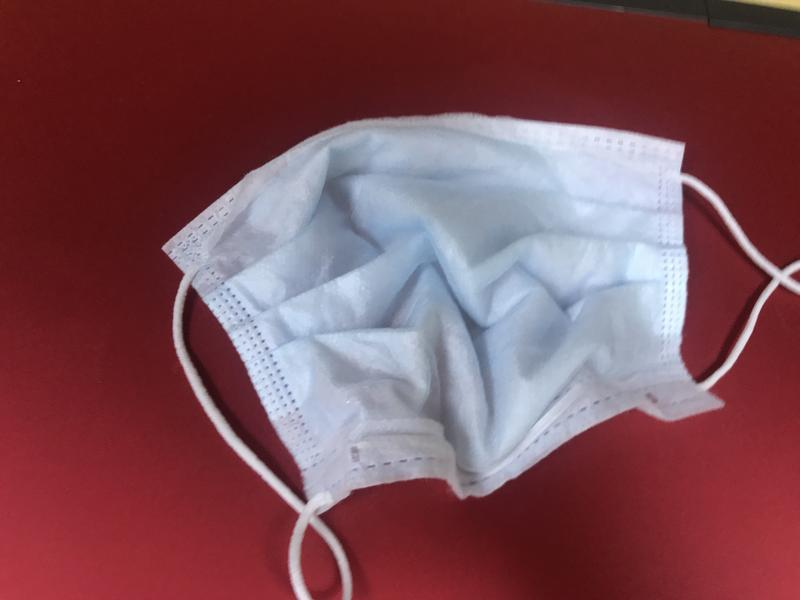medical_mask: (160, 115, 800, 600)
